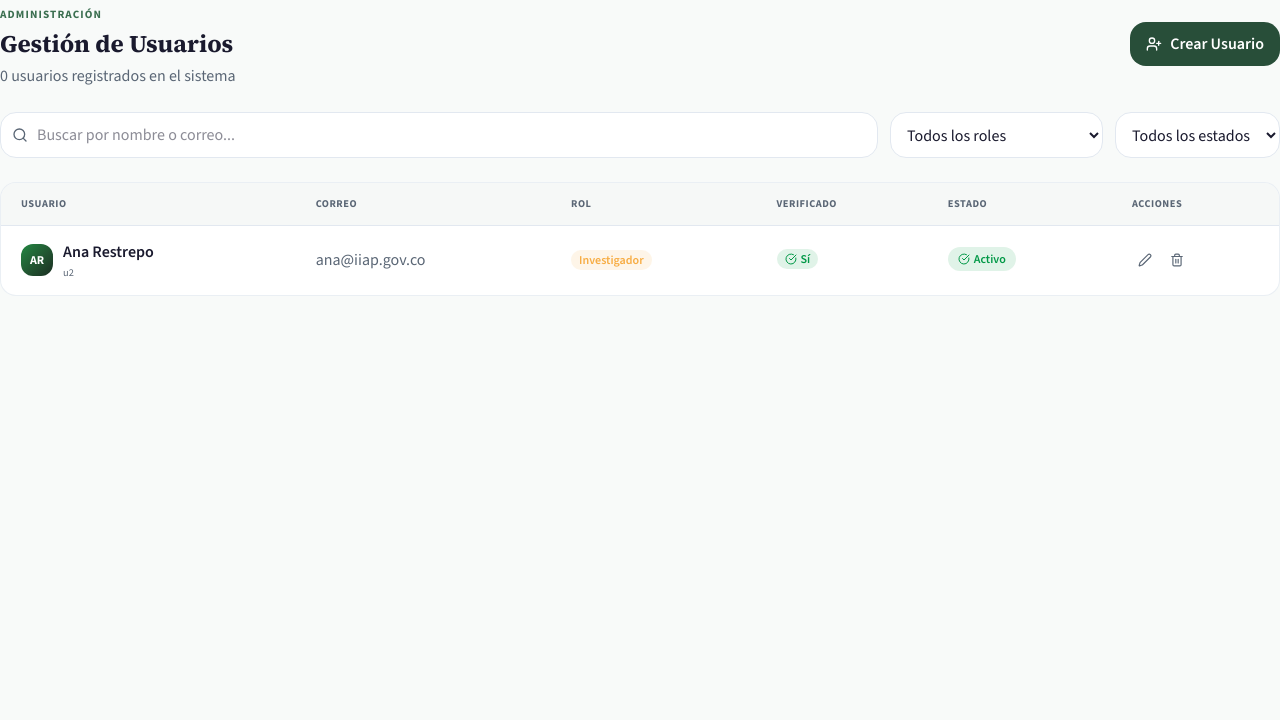
Test case: Usuarios (admin) — eliminar usuario › si falla la eliminación, muestra un toast de error
The image size is (1280, 720).
Click the button named "Eliminar usuario Ana Restrepo".
click(1177, 260)  # box x1=1164 y1=247 x2=1190 y2=273
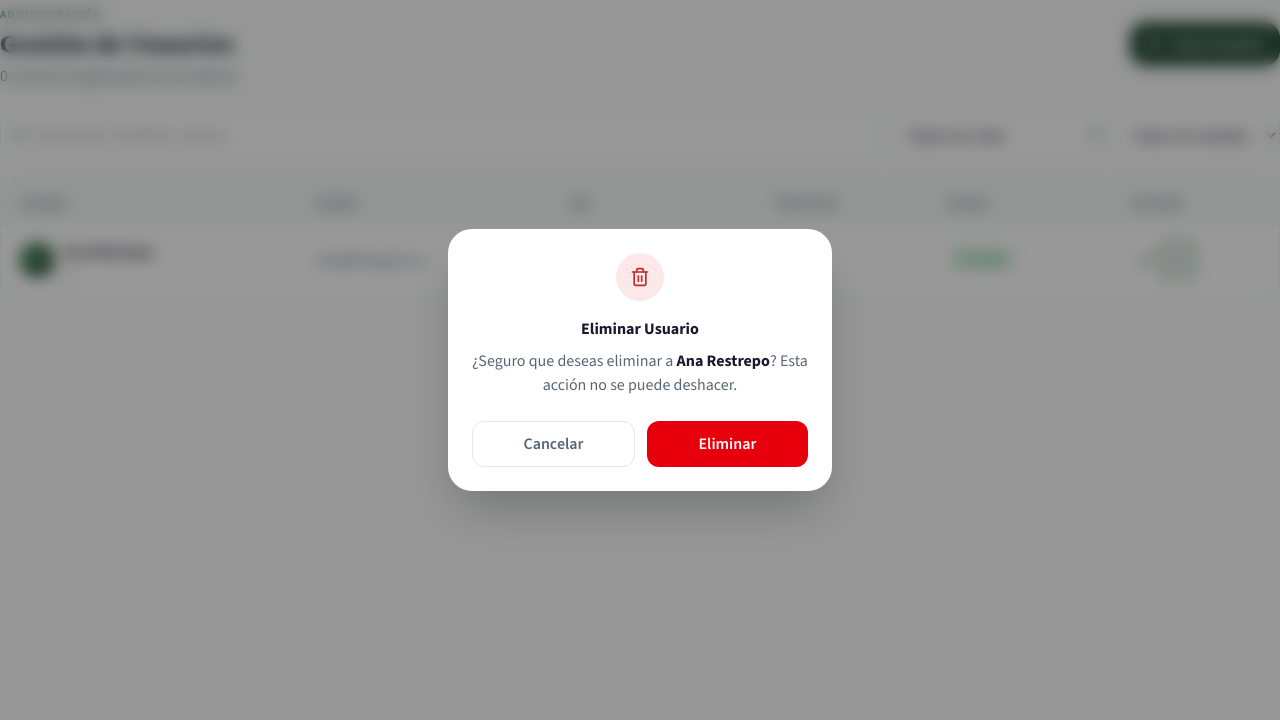
Click the button "Eliminar".
click(728, 444)  # box x1=647 y1=421 x2=808 y2=467
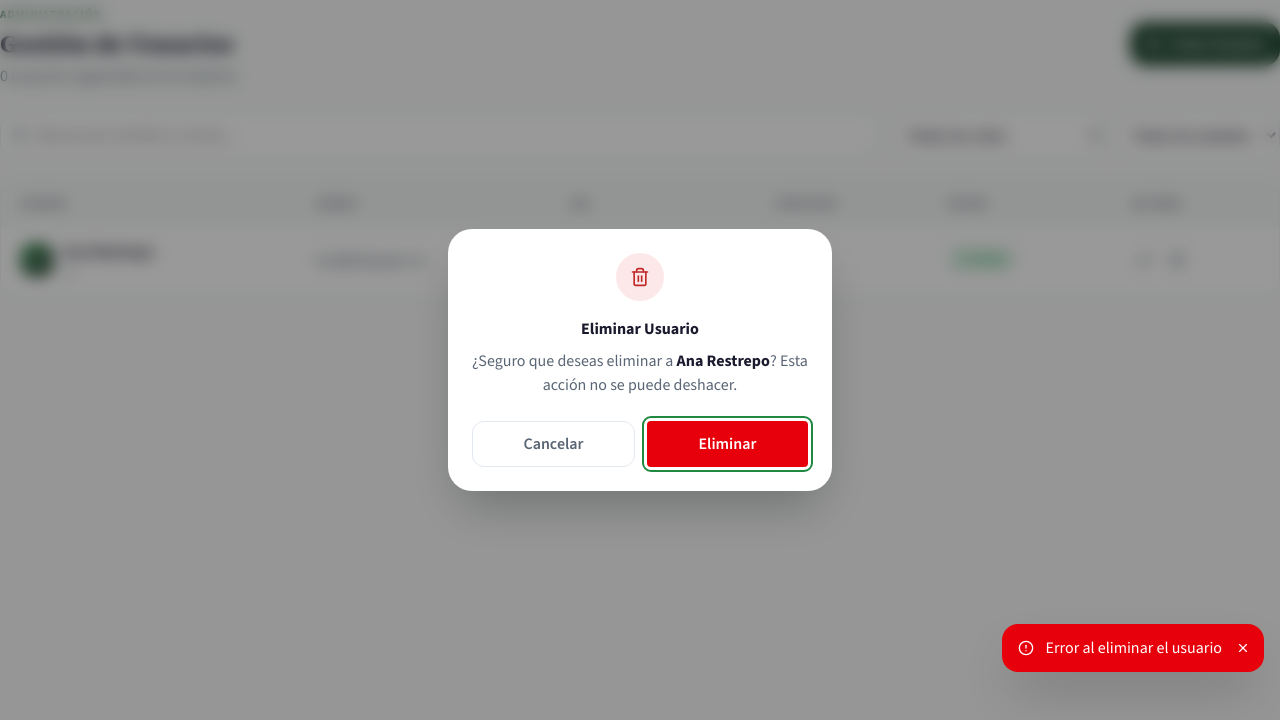
Expected: the text "Error al eliminar el usuario" is shown, x1=1046 y1=636 x2=1222 y2=660
